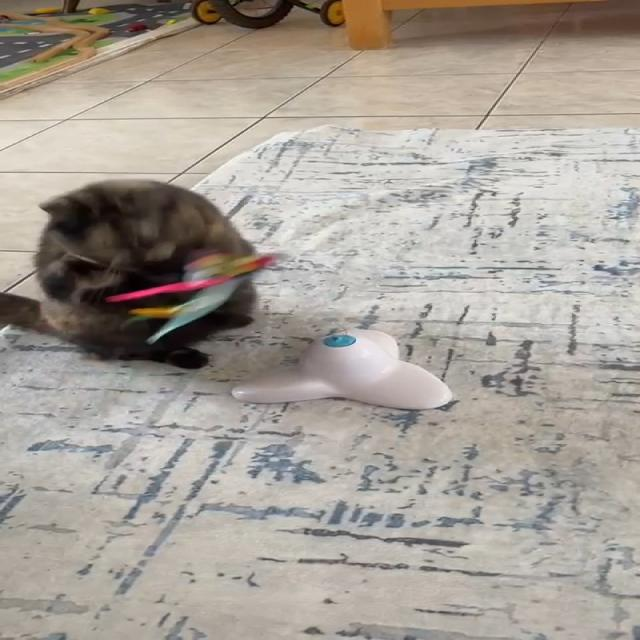authorized: (0, 178, 260, 369)
